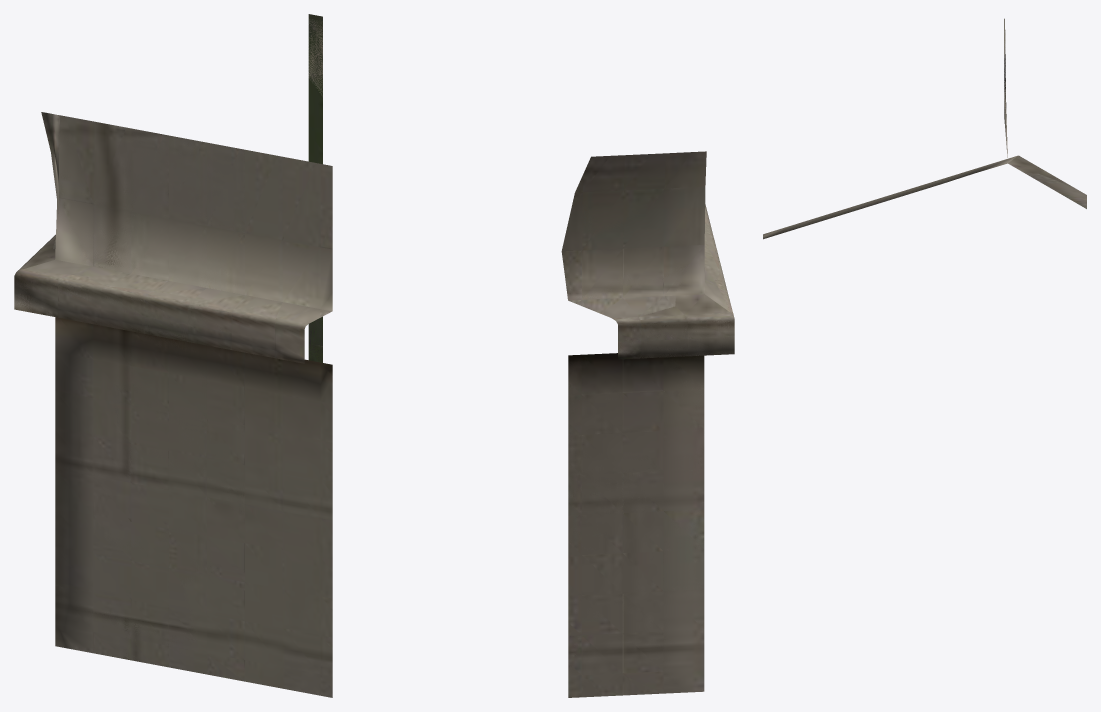
3 views of the same model, side by side, from view 1: azimuth 30°, elevation 25°; view 2: azimuth 150°, elevation 25°; view 3: azimuth 270°, elevation 25° (orthographic). The views are drawn at different scales.
Size of the model in its own units: 1.08 by 1.63 by 0.8965.
Materials: 1 (1 with a texture image).
